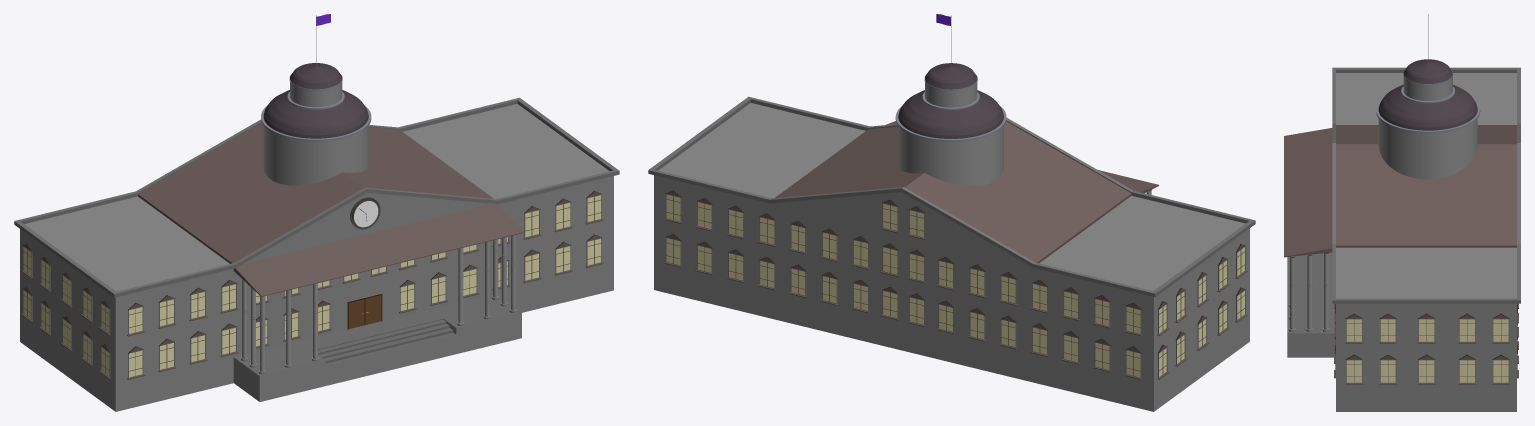
The model's file is town_hall.glb.
3 views of the same model, side by side, from view 1: azimuth 30°, elevation 25°; view 2: azimuth 150°, elevation 25°; view 3: azimuth 270°, elevation 25° (orthographic). The views are drawn at different scales.
Parts seen in each view (by area): view 1: Cube_0, Cylinder.005_49, Cube.007_12, Cube.008_13, Cube.010_15, Cube.011_16, Cube.009_14, Cube.012_17, Cylinder.001_3, Cylinder.002_4, Cylinder_1, Cube.001_2 (+6 smaller); view 2: Cube_0, Cylinder.005_49, Cube.027_32, Cube.036_41, Cube.030_35, Cube.033_38, Cube.032_37, Cube.034_39, Cube.039_44, Cube.028_33, Cube.029_34, Cube.031_36 (+7 smaller); view 3: Cube_0, Cylinder.005_49, Cube.018_23, Cube.022_27, Cube.016_21, Cube.017_22, Cube.019_24, Cube.020_25, Cube.021_26, Cube.024_29, Cube.025_30, Cube.023_28 (+3 smaller).
Boxes of the visible parts, bbox=[...] form: Cube_0: bbox=[14, 97, 619, 411]; Cylinder.005_49: bbox=[261, 63, 371, 185]; Cube.007_12: bbox=[189, 249, 541, 364]; Cube.008_13: bbox=[158, 242, 572, 372]; Cube.010_15: bbox=[189, 206, 541, 321]; Cube.011_16: bbox=[158, 198, 572, 328]; Cube.009_14: bbox=[127, 234, 603, 379]; Cube.012_17: bbox=[127, 191, 603, 336]; Cylinder.001_3: bbox=[258, 235, 517, 374]; Cylinder.002_4: bbox=[284, 241, 491, 367]; Cylinder_1: bbox=[311, 248, 464, 361]; Cube.001_2: bbox=[318, 280, 416, 333]; Cube_0: bbox=[648, 96, 1255, 411]; Cylinder.005_49: bbox=[895, 63, 1006, 185]; Cube.027_32: bbox=[695, 241, 1111, 372]; Cube.036_41: bbox=[820, 228, 986, 297]; Cube.030_35: bbox=[695, 198, 1111, 328]; Cube.033_38: bbox=[820, 272, 986, 341]; Cube.032_37: bbox=[789, 264, 1017, 349]; Cube.034_39: bbox=[851, 279, 954, 334]; Cube.039_44: bbox=[758, 213, 1048, 313]; Cube.028_33: bbox=[726, 249, 1079, 364]; Cube.029_34: bbox=[664, 190, 1142, 336]; Cube.031_36: bbox=[726, 205, 1079, 320]; Cube_0: bbox=[1284, 67, 1520, 411]; Cylinder.005_49: bbox=[1376, 59, 1480, 179]; Cube.018_23: bbox=[1458, 354, 1476, 384]; Cube.022_27: bbox=[1345, 354, 1363, 384]; Cube.016_21: bbox=[1379, 354, 1397, 384]; Cube.017_22: bbox=[1417, 354, 1435, 384]; Cube.019_24: bbox=[1379, 313, 1397, 343]; Cube.020_25: bbox=[1417, 313, 1435, 343]; Cube.021_26: bbox=[1458, 313, 1476, 343]; Cube.024_29: bbox=[1492, 354, 1510, 384]; Cube.025_30: bbox=[1492, 313, 1510, 343]; Cube.023_28: bbox=[1345, 313, 1363, 343].
Bounding box in the file's own units: 48.71 × 27.67 × 20.95.
